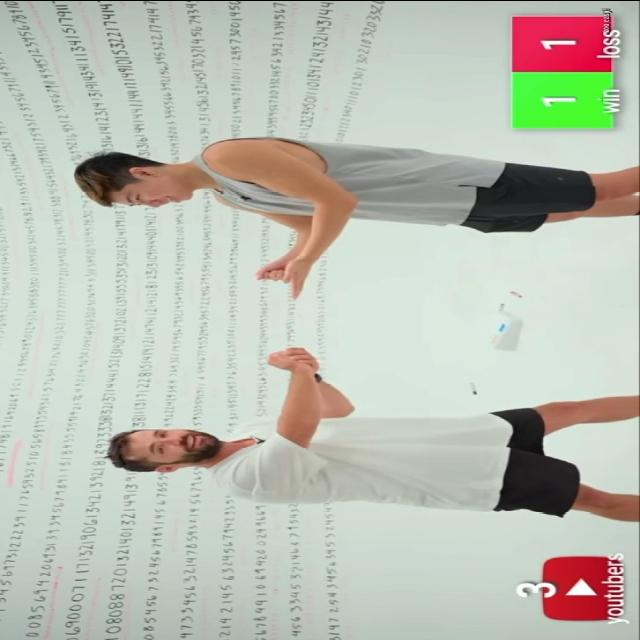Rock: (267, 349, 317, 371), (254, 262, 289, 280)
